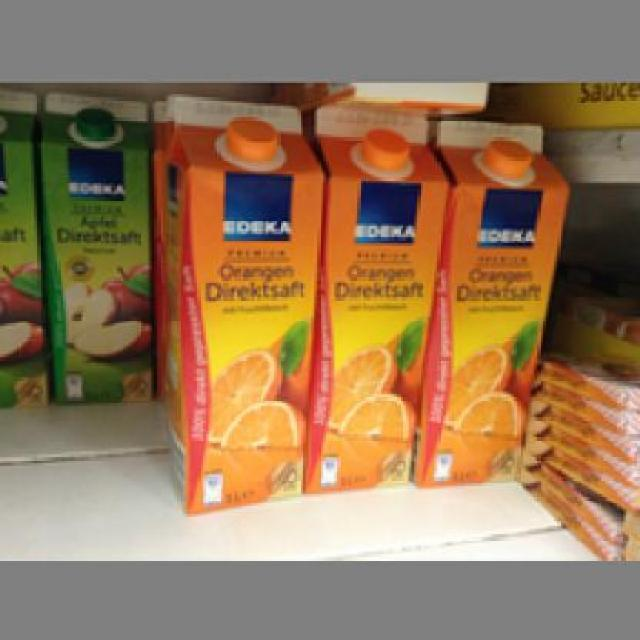Juice: (160, 91, 320, 512), (306, 97, 448, 494), (420, 114, 569, 486), (36, 83, 152, 403)
